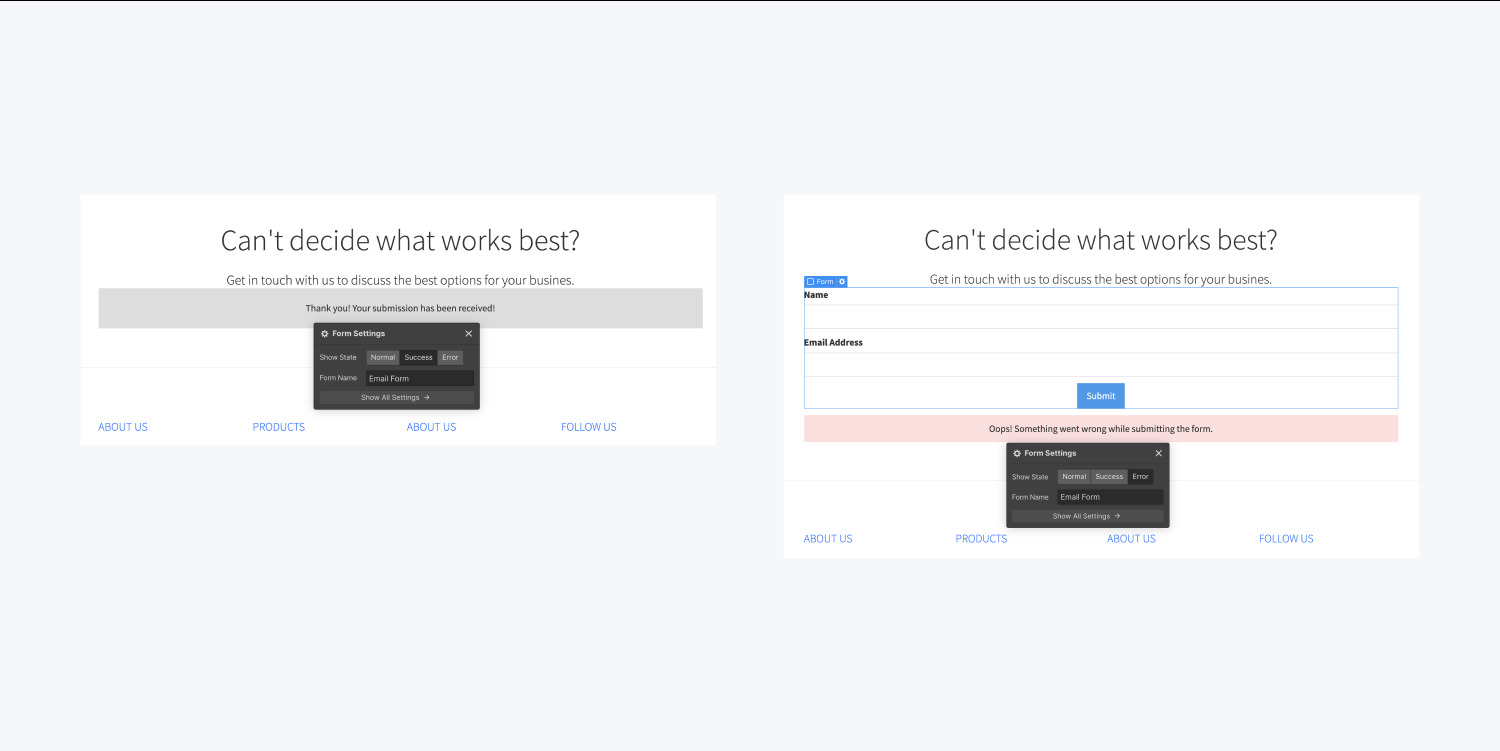error_message: (982, 419, 1213, 435)
